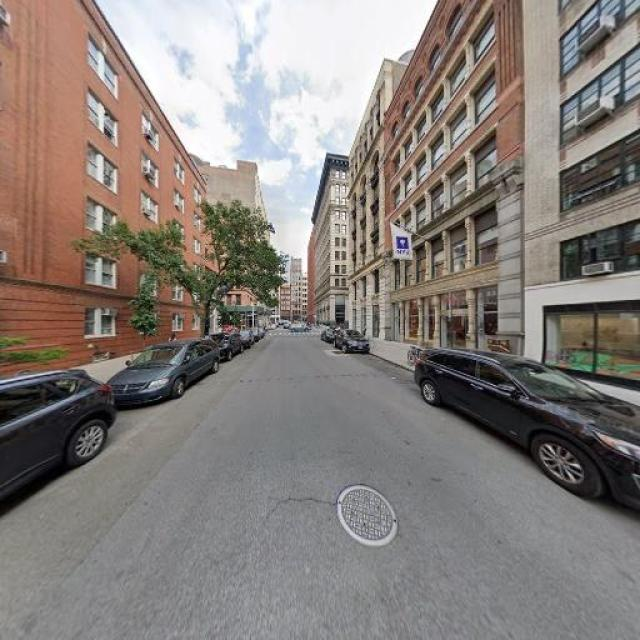Building: (1, 1, 204, 380), (387, 1, 519, 368), (524, 1, 640, 395), (352, 69, 384, 340)
